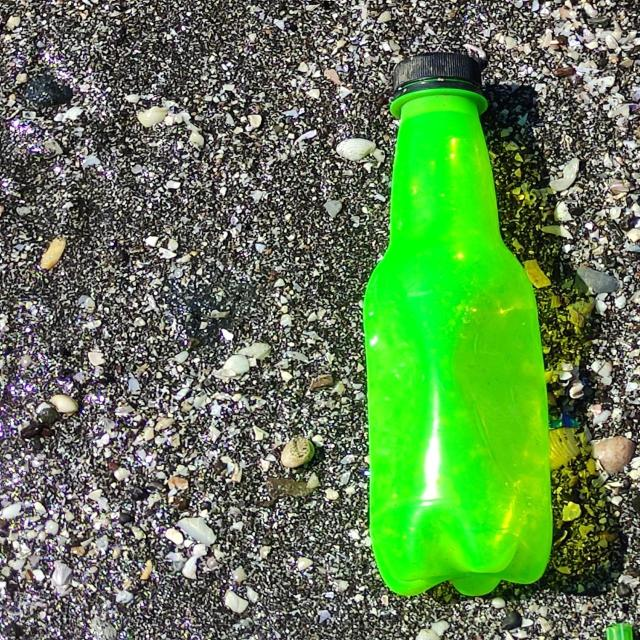plastic_waste: (362, 49, 557, 597)
